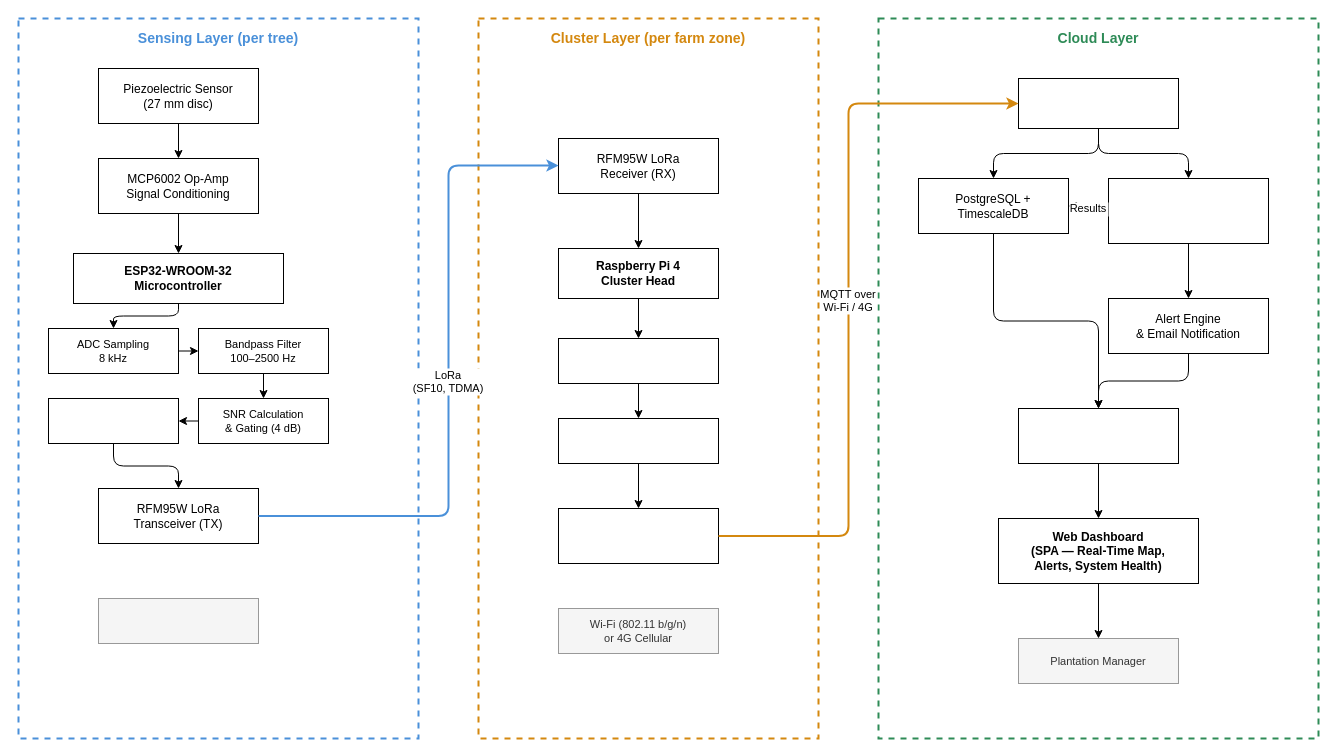
Some shapes in this 1336 by 756 pixel diagram are drawn without their labels. Here are the shapes that lost their labels. From the top down, the centre of each, then its label:
point (1098, 103): MQTT Broker
point (1188, 211): ML Classification (CNN / BiLSTM / CNN-LSTM Hybrid)
point (638, 361): Packet Validation (Header + CRC)
point (113, 421): MFCC Feature Extraction
point (638, 441): Local Storage (SD Card — SQLite/CSV)
point (1098, 436): RESTful API (HTTPS + JWT)
point (638, 536): MQTT Publish (JSON over TCP/IP)
point (178, 621): Battery + Solar (Deep Sleep Cycling)
